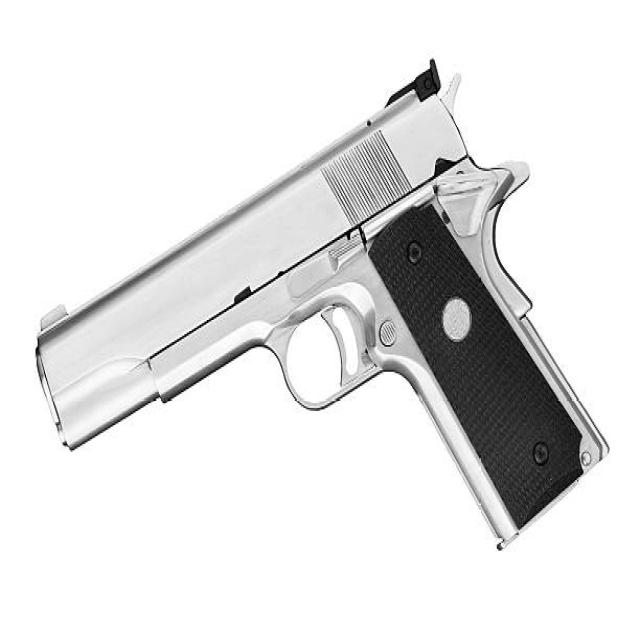pistol: (23, 50, 614, 562)
